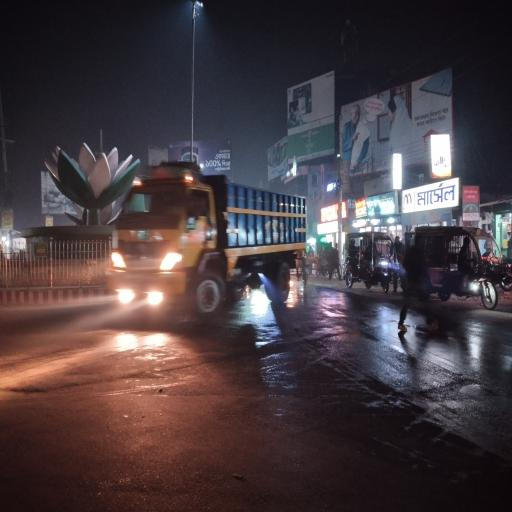auto rickshaw: (413, 222, 504, 317), (344, 232, 399, 291)
rickshaw: (315, 241, 343, 278)
truck: (118, 161, 309, 315)
